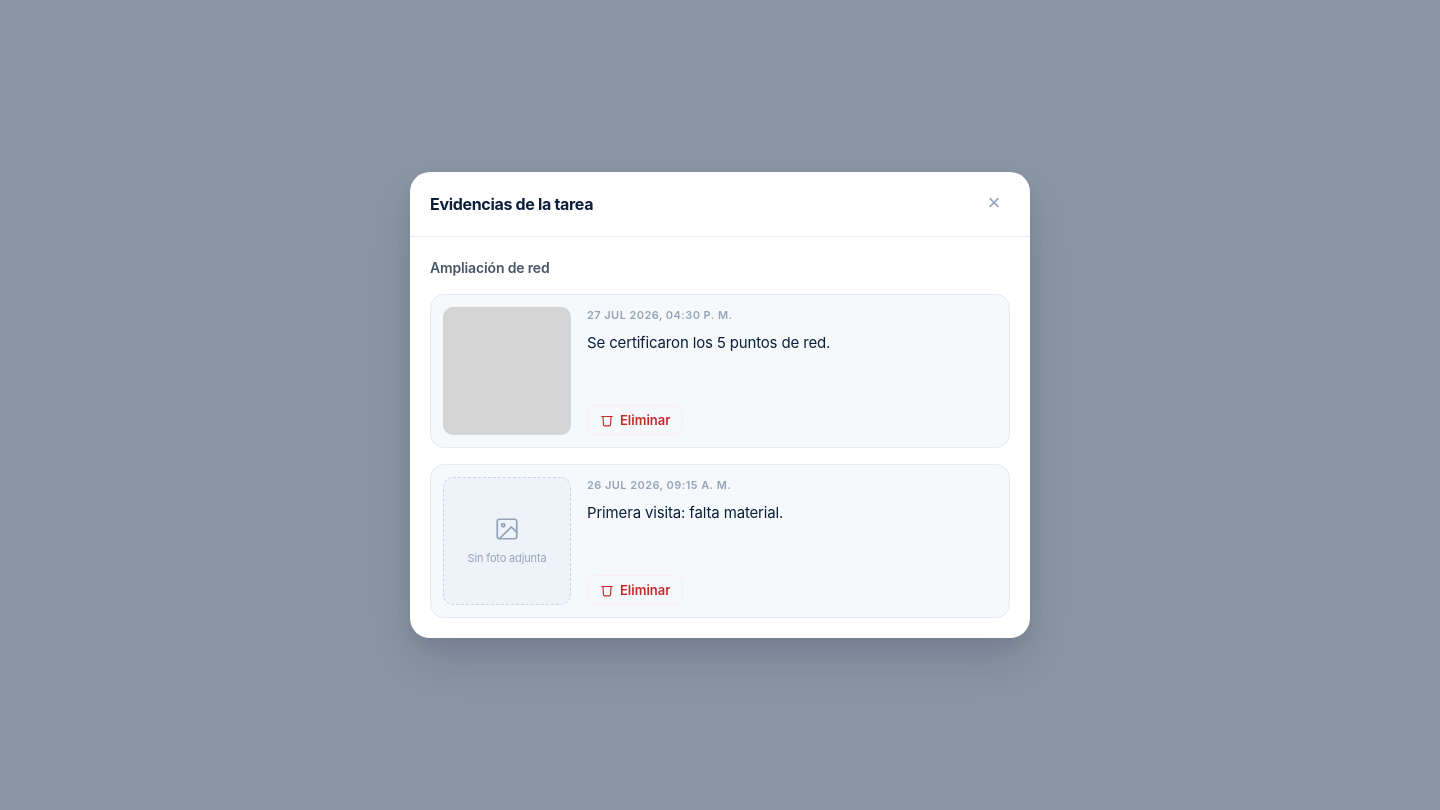
Test: ModalEvidencias › con permiso, elimina la evidencia y la quita de la lista
Expected: the text "Se certificaron los 5 puntos de red." is shown, top-left (587, 333), bottom-right (830, 352)
Step 1. Click the button "Eliminar" below "Se certificaron los 5 puntos de red." → (635, 420), box top-left (587, 405), bottom-right (683, 435)
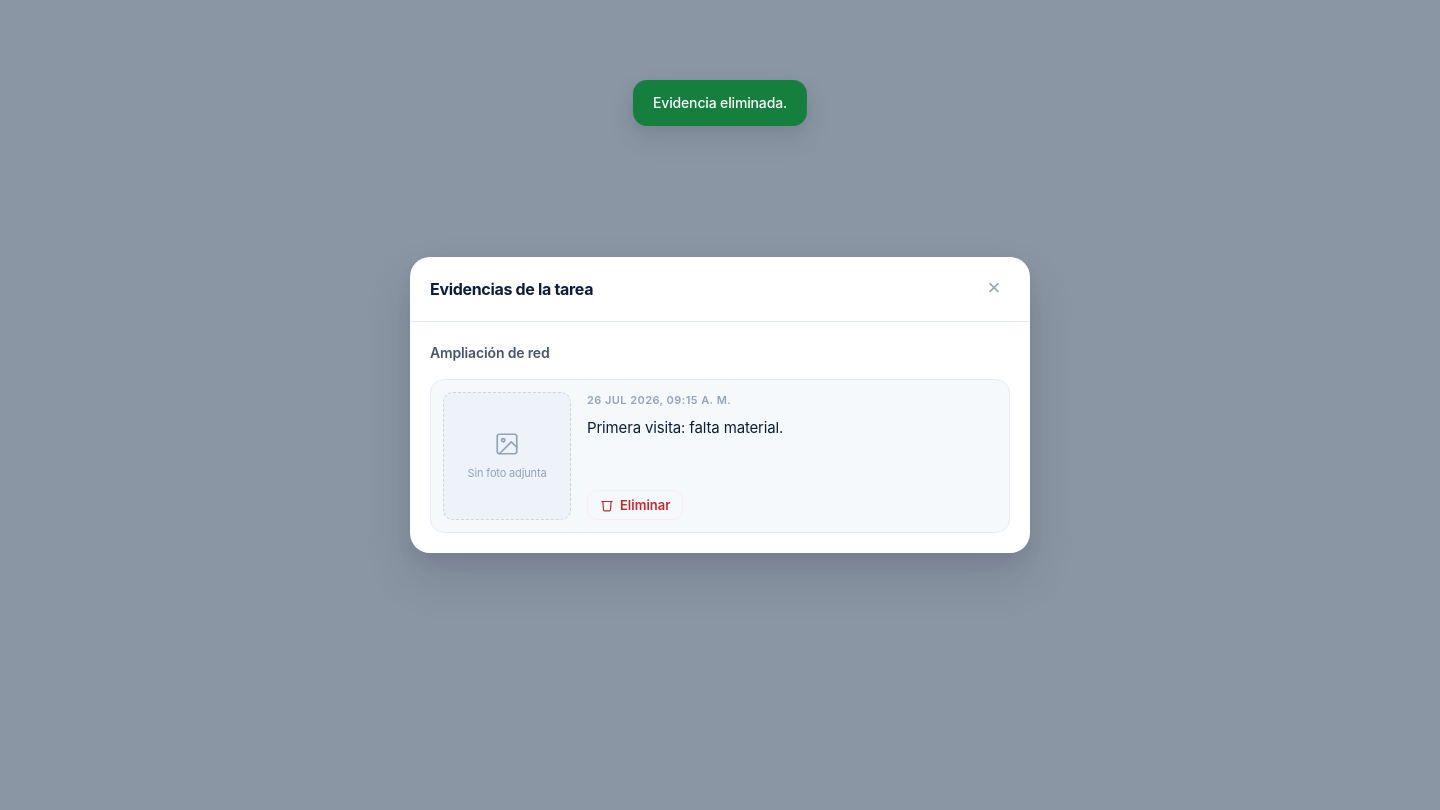
Expected: the text "Se certificaron los 5 puntos de red." is gone
